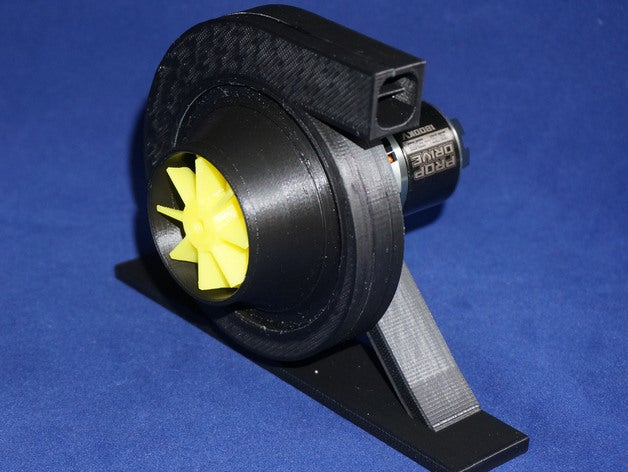Good: (103, 2, 564, 472)
